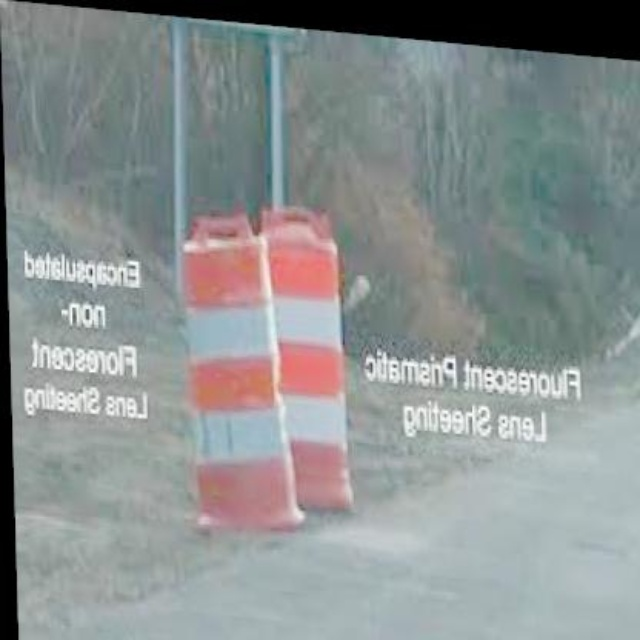obstacle: (179, 203, 289, 542), (272, 199, 367, 525)
